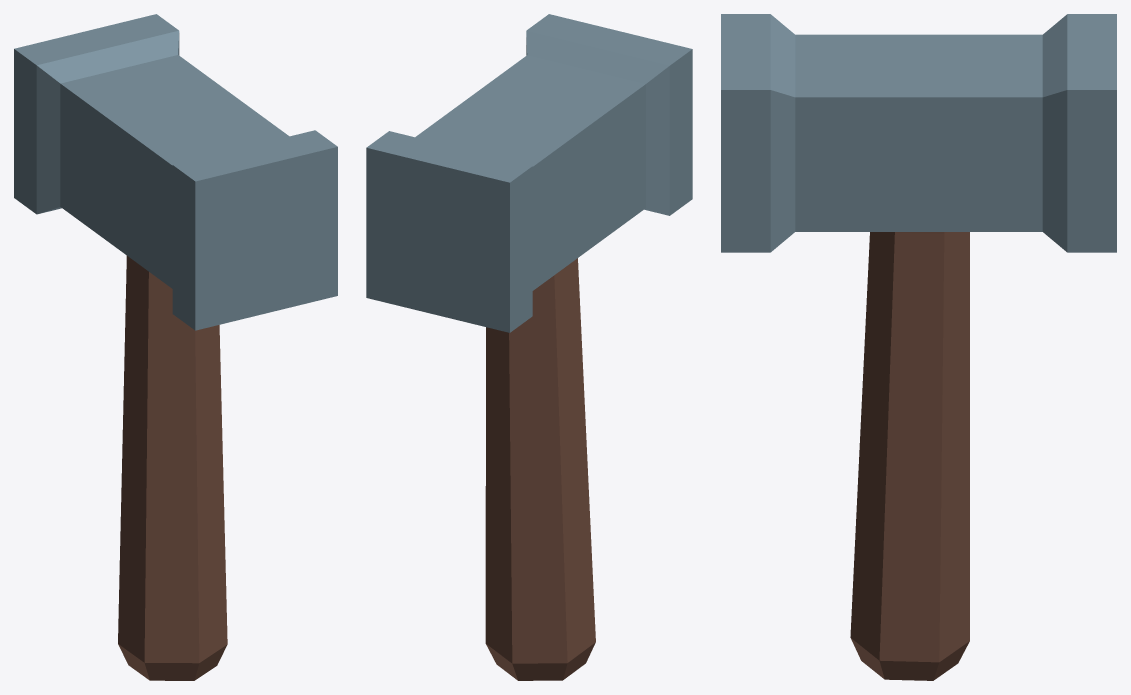
The model's file is hammer.glb.
The picture shows the model from 3 angles, left to right: view 1: azimuth 30°, elevation 25°; view 2: azimuth 150°, elevation 25°; view 3: azimuth 270°, elevation 25°; orthographic projection. The views are drawn at different scales.
Parts seen in each view (by area): view 1: group1210461039; view 2: group1210461039; view 3: group1210461039.
Part boxes in pixels (x1,y1,x2,y2): group1210461039: (14, 14, 337, 680); group1210461039: (366, 14, 692, 680); group1210461039: (721, 14, 1116, 680).
Bounding box in the file's own units: 0.043 × 0.1626 × 0.0948.
